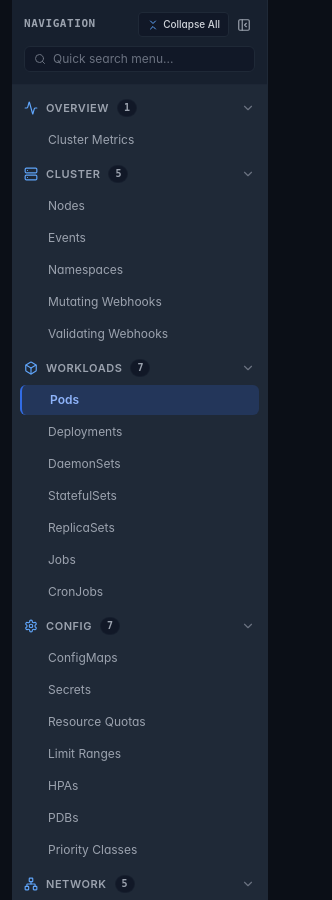
Test: Sidebar Component › toggles collapse/expand on individual category click
Expected: the text "Deployments" is shown, x1=48 y1=424 x2=122 y2=439
Click the button "Workloads 7": click(140, 368) x1=12 y1=353 x2=267 y2=383
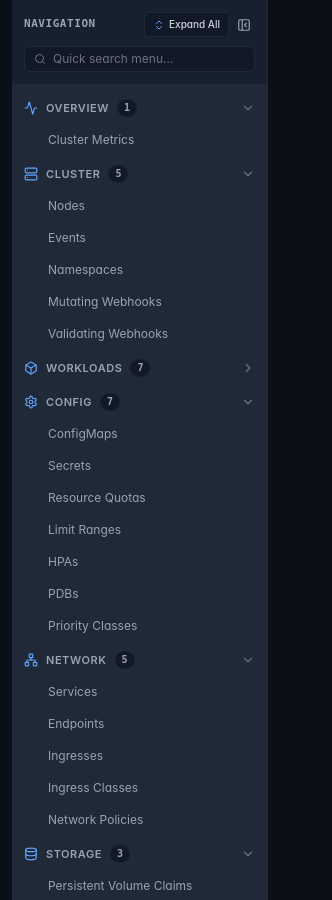
Result: the button "Deployments" is gone
# Click again to expand
Click the button "Workloads 7": click(140, 368) x1=12 y1=353 x2=267 y2=383
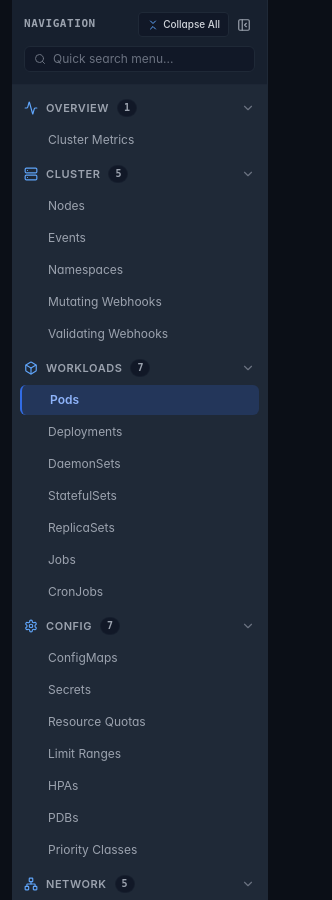
Result: the text "Deployments" is shown at x1=48 y1=424 x2=122 y2=439
